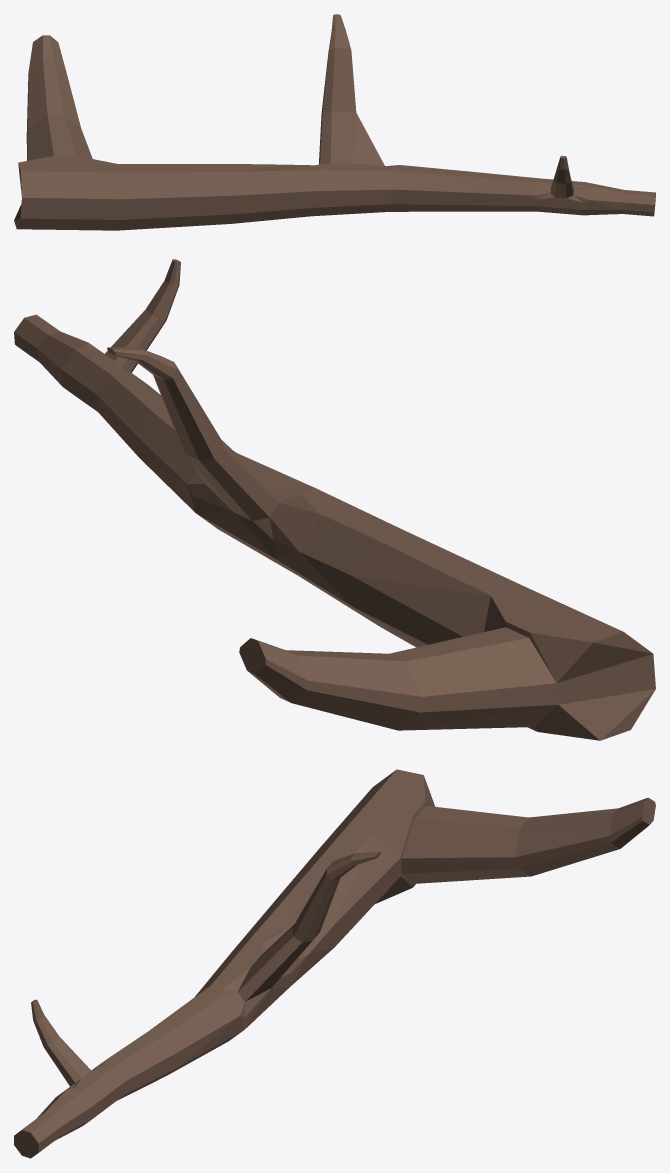
Rendered from Stick1.fbx.
3 views of the same model, one above another, from view 1: azimuth 30°, elevation 25°; view 2: azimuth 150°, elevation 25°; view 3: azimuth 270°, elevation 25° (orthographic). The views are drawn at different scales.
Visible parts, largest first — view 1: Twig1; view 2: Twig1; view 3: Twig1.
Boxes of the visible parts, x1=… form: Twig1: x1=14, y1=14, x2=655, y2=230; Twig1: x1=14, y1=259, x2=655, y2=740; Twig1: x1=14, y1=769, x2=655, y2=1158.
Size of the model in its own units: 599 by 170 by 506.
